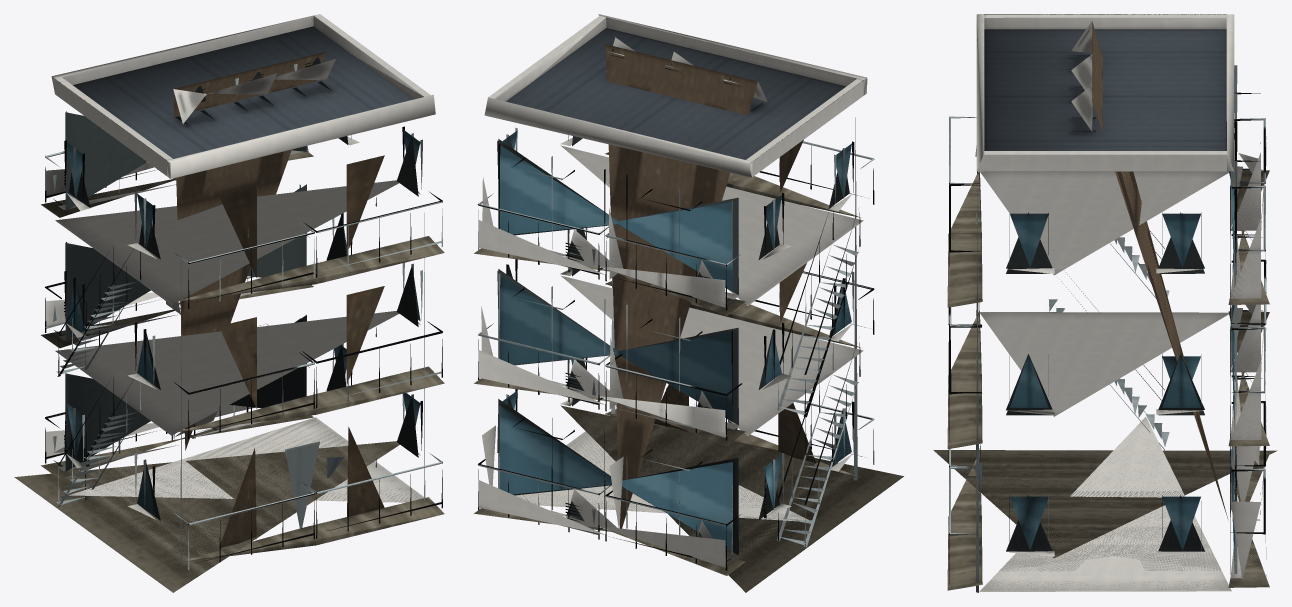
The model's file is residential_006.lod2.obj.
The picture shows the model from 3 angles, left to right: view 1: azimuth 30°, elevation 25°; view 2: azimuth 150°, elevation 25°; view 3: azimuth 270°, elevation 25°; orthographic projection. The views are drawn at different scales.
Parts seen in each view (by area): view 1: residential_006; view 2: residential_006; view 3: residential_006.
Boxes of the visible parts, x1,y1,x2,y2 form: residential_006: (14, 14, 444, 592); residential_006: (474, 14, 903, 592); residential_006: (933, 14, 1277, 592).
Size of the model in its own units: 7.34 by 10.16 by 6.77.
Materials: 1 (1 with a texture image).
